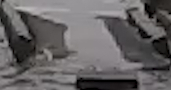bag: (2, 3, 167, 87)
